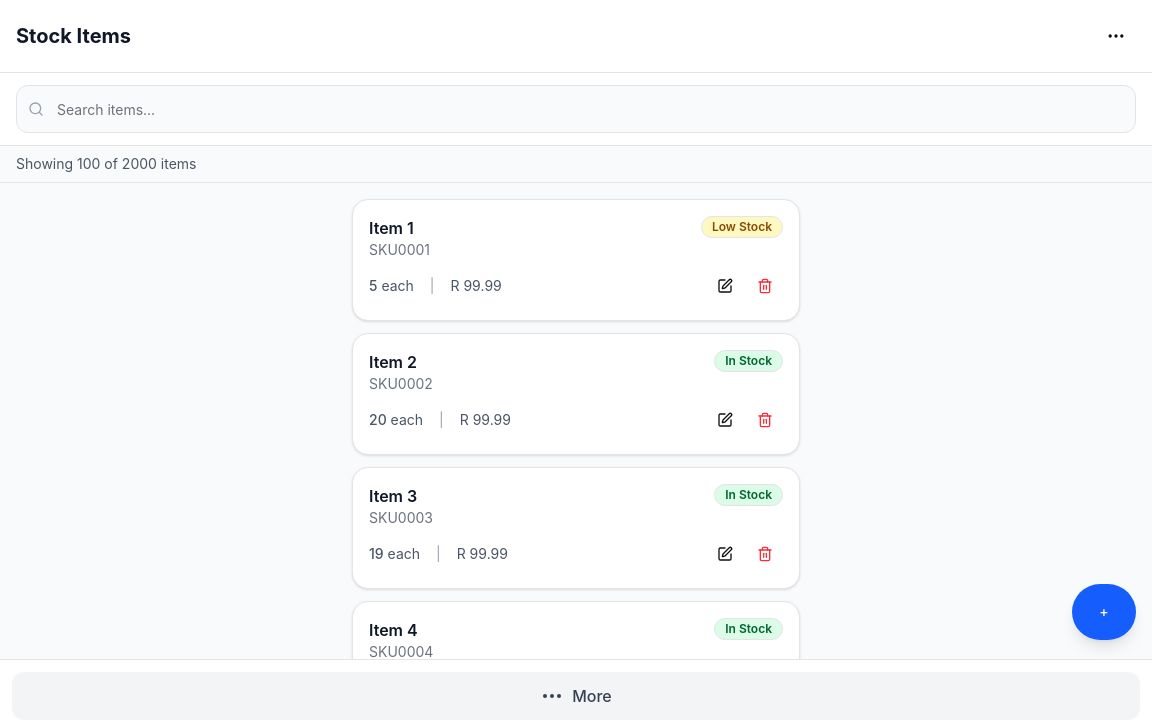
Test case: Stock Items Page - QA Validation › Search › searches for items not in first 100
Expected: the heading "Item 1" is shown, [369,218,414,238]
// Type search query
Type "Special Laptop" into the field with placeholder "Search items..." at (576, 109), box [16,85,1136,133]
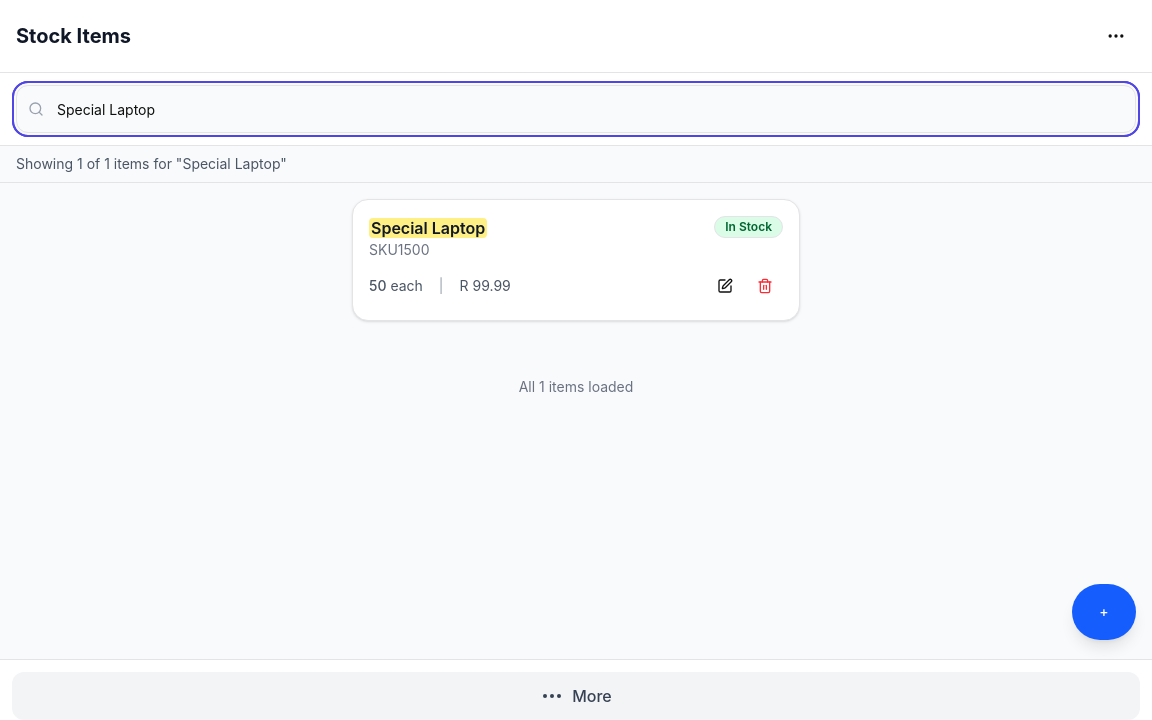
Now the text "Special Laptop" is shown, box [369,218,487,238]
